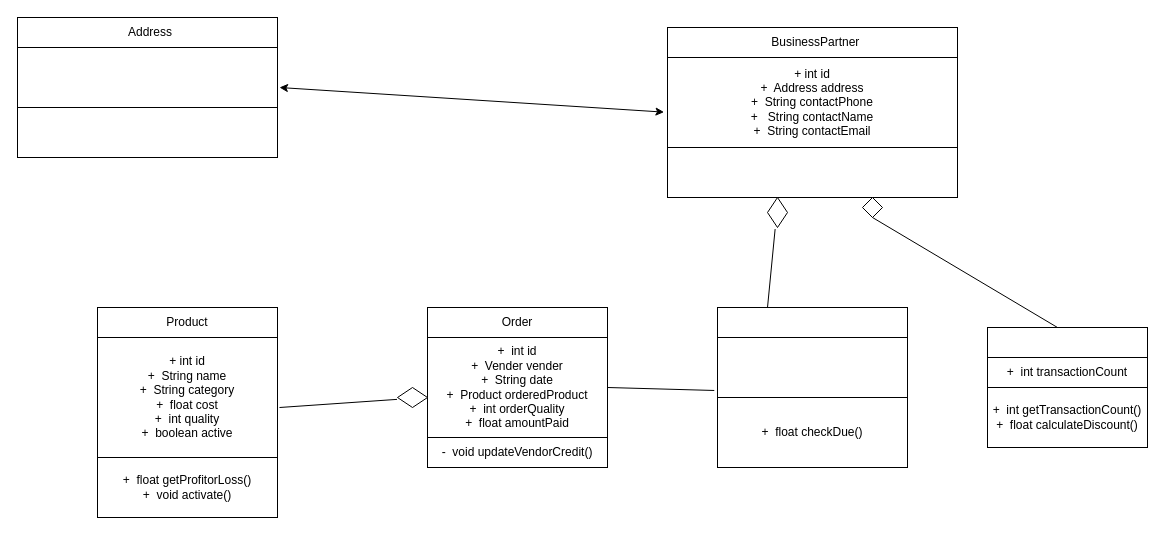
This 1165x535 diagram has some shape labels left out. The shapes that lost their labels are listed below. From the top down, each one's centre as x and y in pixels, then its label:
the point at 147,77: + String street + String city + String state
the point at 147,132: + String get AddressDetils() + void updateAddressDetails(String addressDetails)
the point at 812,172: + String getContactDetails() + void updateContactDetails(String contactDetails)
the point at 812,322: Vendor
the point at 1067,342: Costumer
the point at 812,367: + String vanderName + Product[100] products + Order[100] orders
